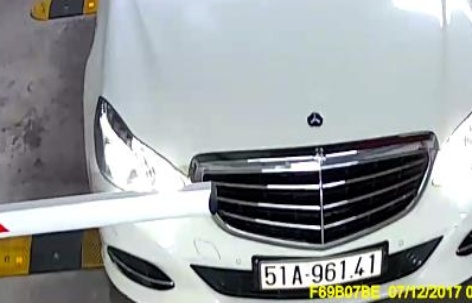plate: (248, 242, 391, 295)
